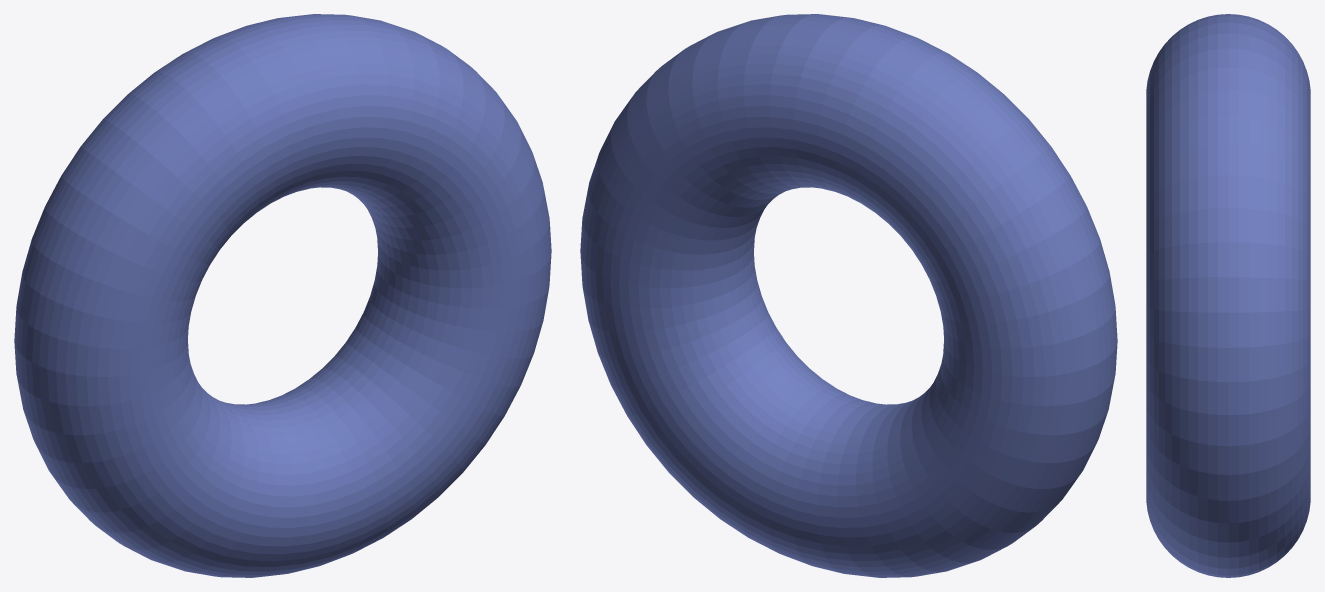
The picture shows the model from 3 angles, left to right: view 1: azimuth 30°, elevation 25°; view 2: azimuth 150°, elevation 25°; view 3: azimuth 270°, elevation 25°; orthographic projection. The views are drawn at different scales.
Visible parts, largest first — view 1: world; view 2: world; view 3: world.
Part boxes in pixels (x1,y1,x2,y2): world: [14, 14, 551, 577]; world: [580, 14, 1117, 577]; world: [1146, 14, 1310, 577].
Size of the model in its own units: 14.13 by 14.11 by 4.13.
